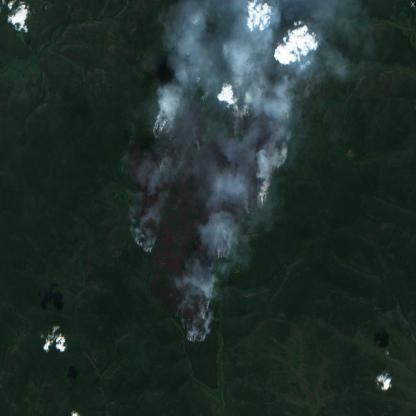fire: (230, 72, 266, 133), (179, 299, 218, 345), (128, 228, 158, 260), (210, 234, 234, 262), (151, 118, 174, 142), (255, 191, 276, 207), (280, 109, 299, 125)
